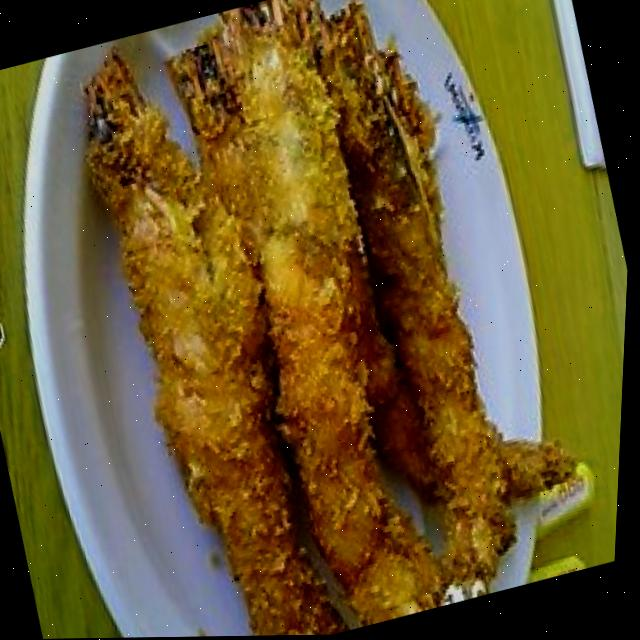炸货点心: (29, 0, 640, 639)
熟制海鲜: (29, 0, 640, 639)
